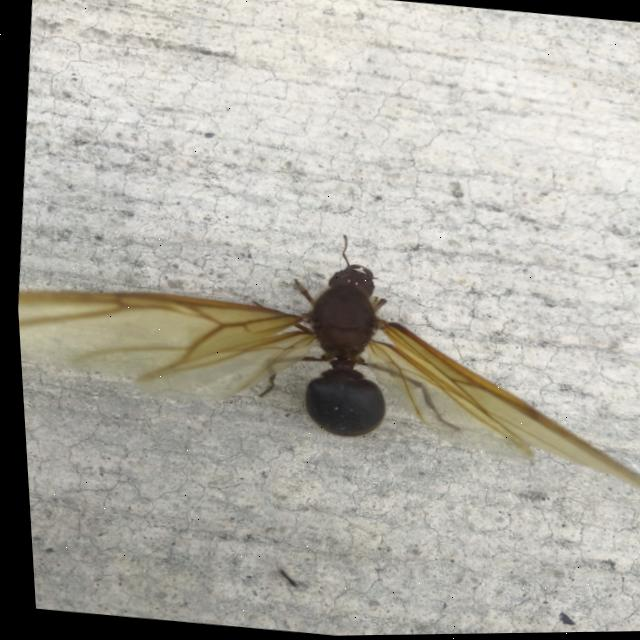Alive-Female-Alate: (10, 197, 640, 520)
